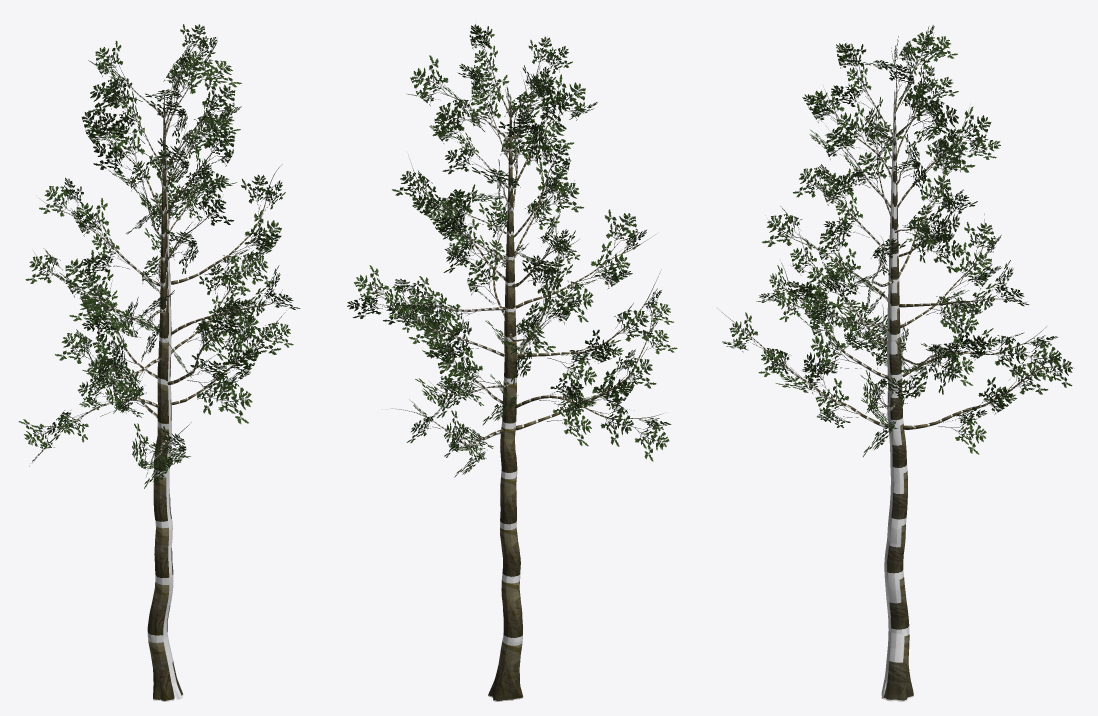
The model's file is TreeOak01_Test_1.fbx.
3 views of the same model, side by side, from view 1: azimuth 30°, elevation 25°; view 2: azimuth 150°, elevation 25°; view 3: azimuth 270°, elevation 25° (orthographic).
Visible parts, largest first — view 1: TreeOak01; view 2: TreeOak01; view 3: TreeOak01.
Part boxes in pixels (left/top/right/bottom): TreeOak01: left=18, top=24, right=300, bottom=701; TreeOak01: left=347, top=24, right=677, bottom=701; TreeOak01: left=716, top=25, right=1074, bottom=701.
Bounding box in the file's own units: 620 × 1306 × 655.
